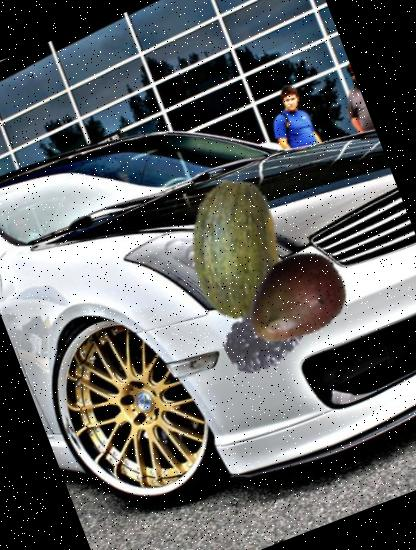Mango: (226, 231, 364, 369)
Melon: (146, 158, 327, 339)
Mulberry: (211, 283, 320, 392)
